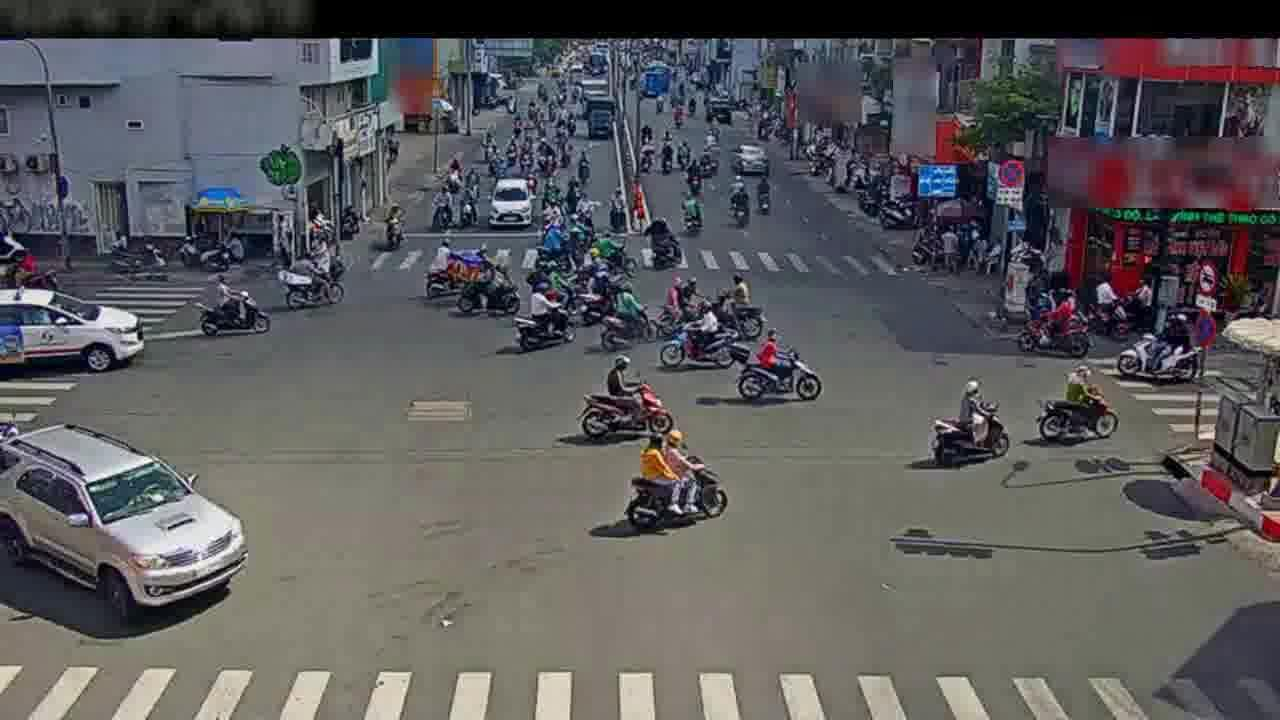container: (0, 425, 253, 613), (0, 287, 140, 371), (487, 175, 538, 230), (731, 142, 764, 182)
motorbike: (622, 434, 728, 530), (1103, 318, 1208, 388), (578, 363, 672, 441), (932, 382, 1014, 467), (735, 327, 819, 407), (1032, 374, 1119, 449), (196, 271, 269, 342), (511, 279, 580, 352), (665, 308, 739, 375), (282, 242, 346, 313), (450, 253, 516, 318), (1030, 302, 1097, 361), (605, 281, 657, 349), (708, 272, 761, 338), (421, 246, 467, 303), (661, 265, 703, 327), (580, 272, 629, 322), (529, 225, 572, 269), (647, 217, 678, 272), (380, 195, 406, 259), (599, 230, 637, 273), (430, 180, 456, 235), (724, 182, 747, 231), (752, 179, 776, 225), (683, 188, 703, 242), (579, 246, 613, 277), (457, 185, 476, 224)
